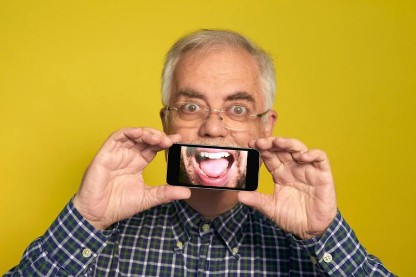张嘴: (194, 149, 236, 182)
